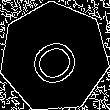O_NE: (22, 26, 87, 88)
